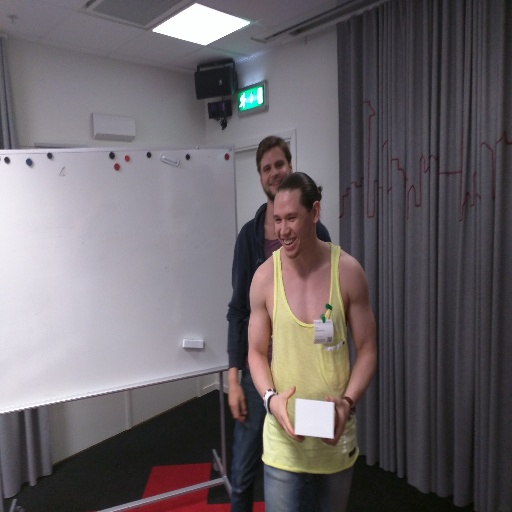hand: (268, 375, 302, 452), (319, 393, 351, 447), (227, 379, 247, 425)
